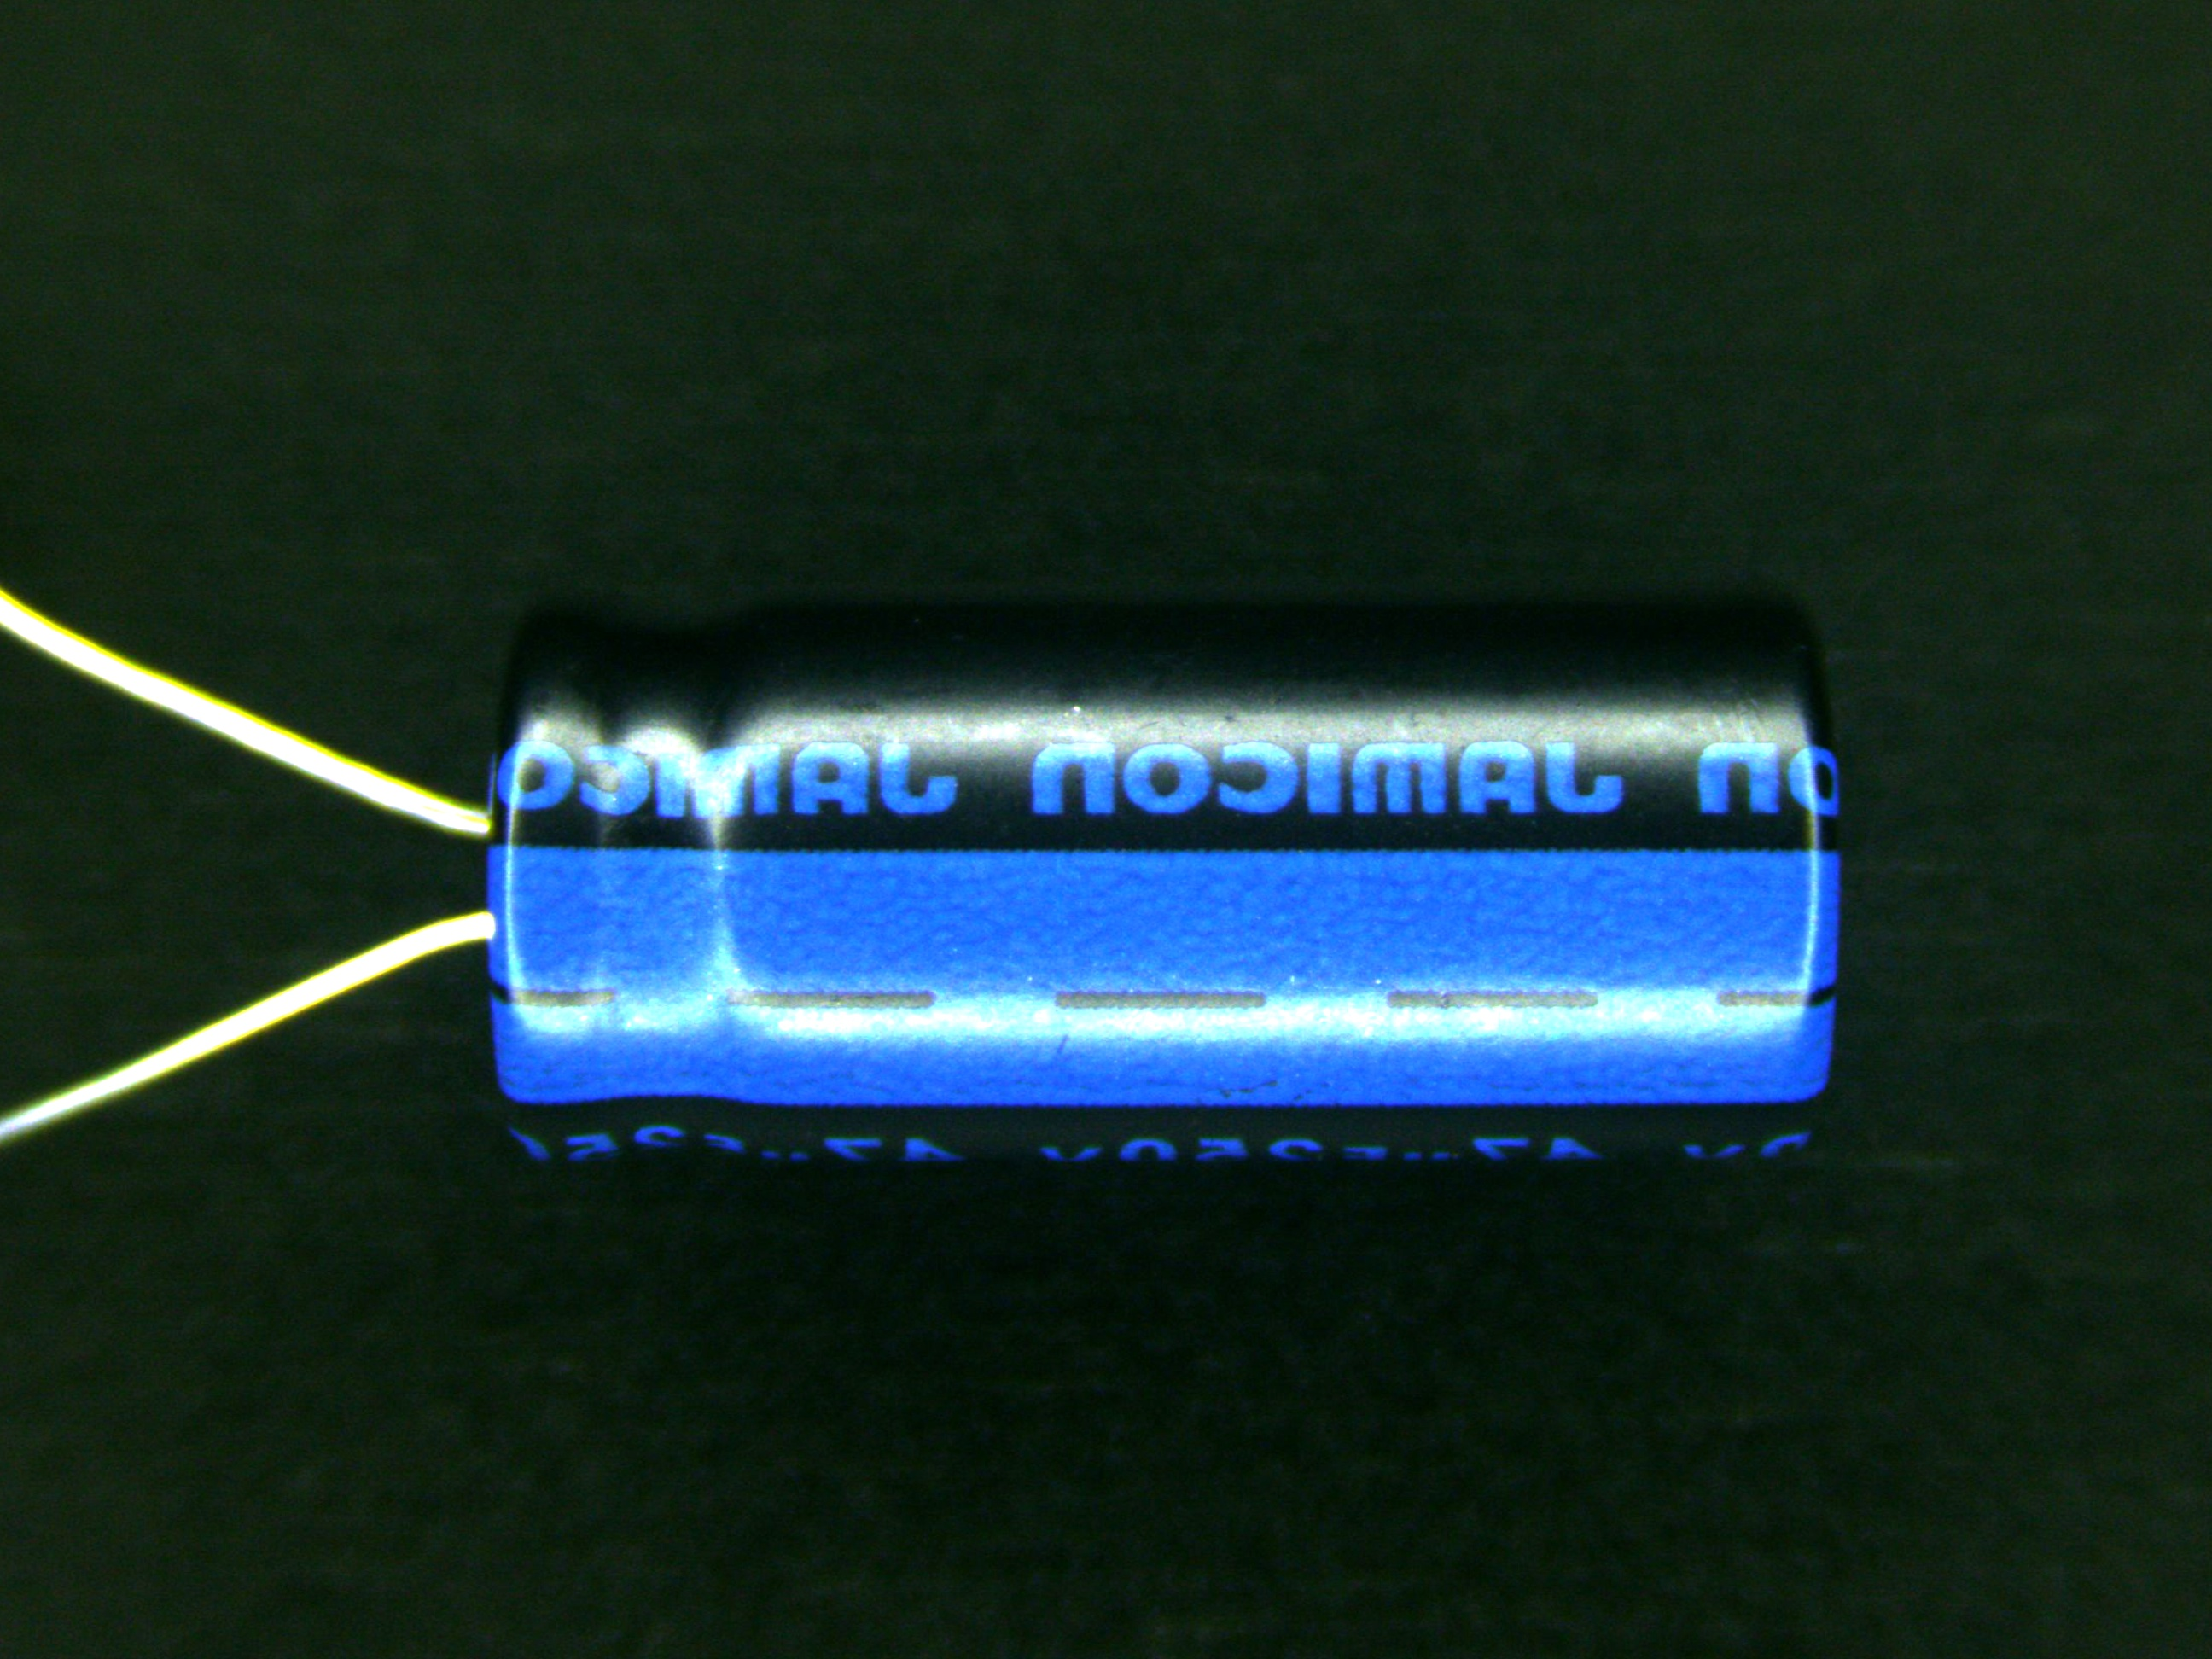c2: (237, 605, 1848, 1178)
